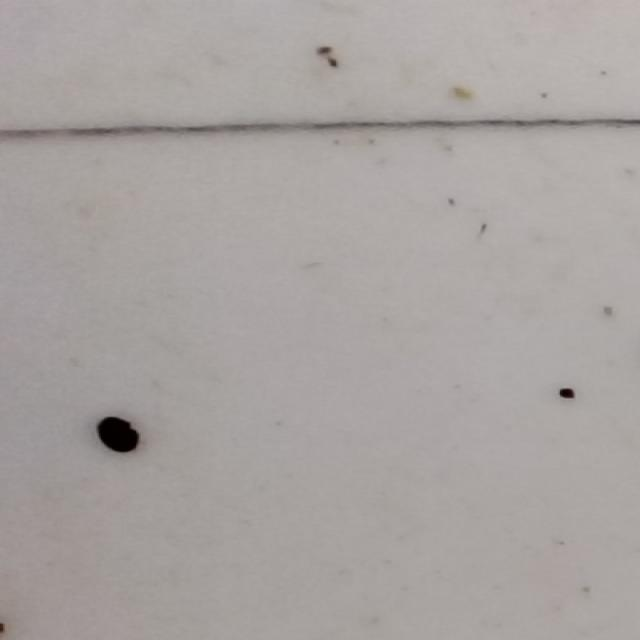varroa: (94, 415, 144, 456)
